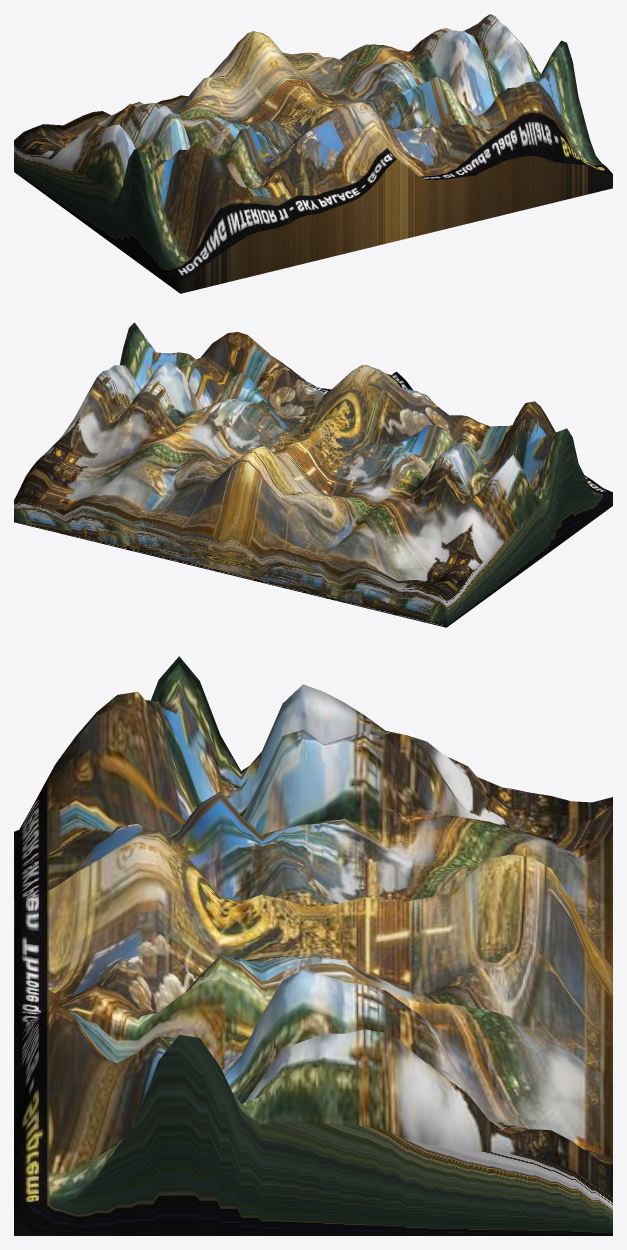
Rendered from INTERIOR_11_Sky_Palace.glb.
3 renders of one model, top to bottom at view 1: azimuth 30°, elevation 25°; view 2: azimuth 150°, elevation 25°; view 3: azimuth 270°, elevation 25°, orthographic. The views are drawn at different scales.
Visible parts, largest first — view 1: INTERIOR_11_Sky_Palace; view 2: INTERIOR_11_Sky_Palace; view 3: INTERIOR_11_Sky_Palace.
Boxes of the visible parts, x1=… form: INTERIOR_11_Sky_Palace: x1=14, y1=14, x2=612, y2=293; INTERIOR_11_Sky_Palace: x1=14, y1=322, x2=612, y2=627; INTERIOR_11_Sky_Palace: x1=14, y1=656, x2=612, y2=1235.
Bounding box in the file's own units: 2 × 0.51 × 1.33.
Materials: 1 (1 with a texture image).
